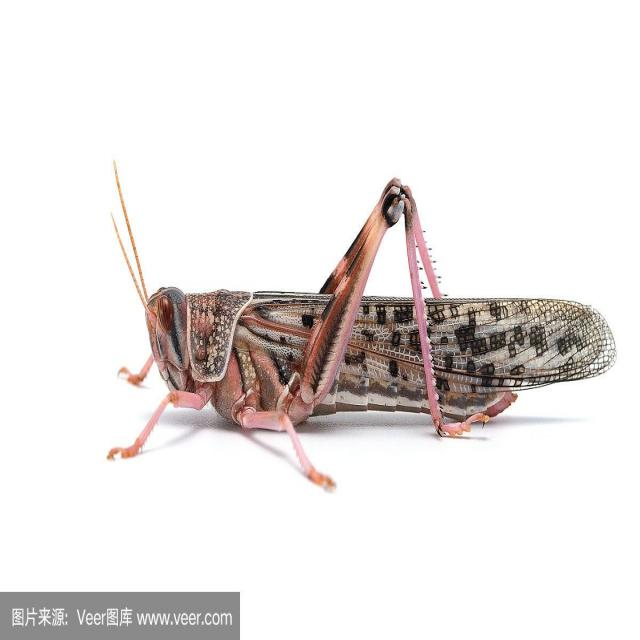ZhaMeng: (99, 134, 626, 503)
